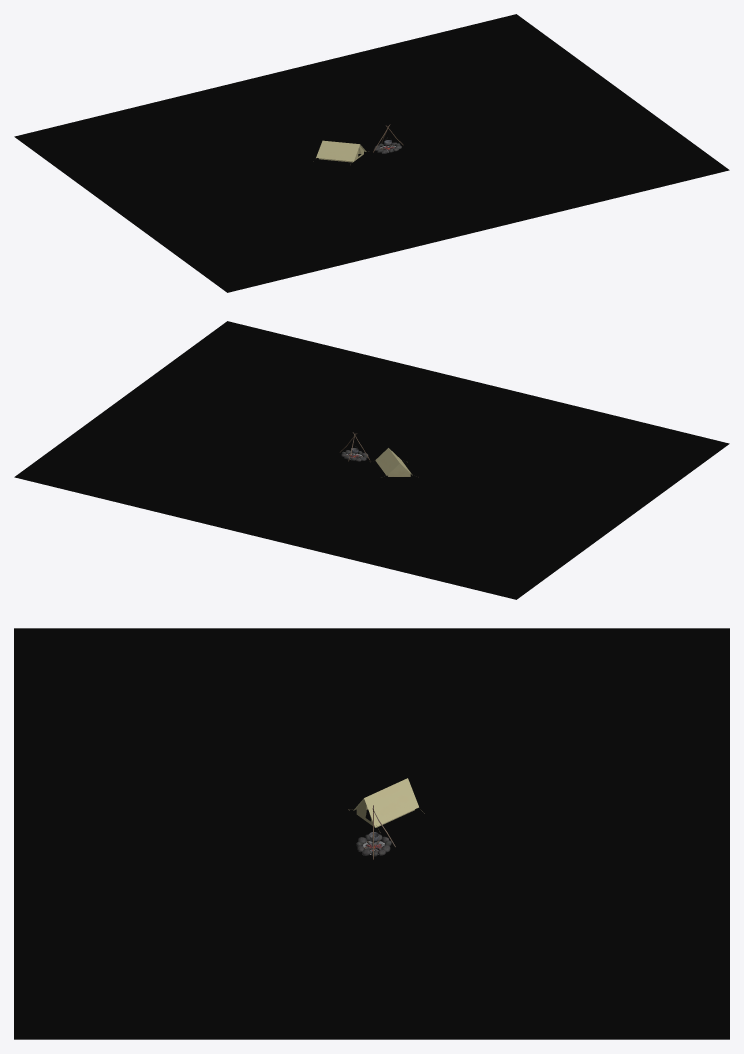
3 renders of one model, top to bottom at view 1: azimuth 30°, elevation 25°; view 2: azimuth 150°, elevation 25°; view 3: azimuth 270°, elevation 25°, orthographic. The views are drawn at different scales.
Parts seen in each view (by area): view 1: Campfire_OBJ; view 2: Campfire_OBJ; view 3: Campfire_OBJ.
Part boxes in pixels (bbox=[...]): Campfire_OBJ: bbox=[14, 14, 729, 292]; Campfire_OBJ: bbox=[14, 321, 729, 599]; Campfire_OBJ: bbox=[14, 628, 729, 1039].
Size of the model in its own units: 89.37 by 4.25 by 65.75.
Materials: 5 (4 with a texture image).
